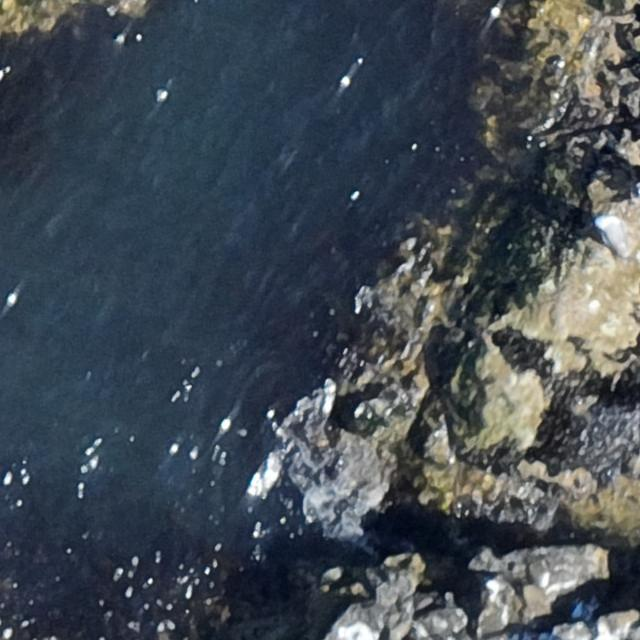umineko: (596, 215, 632, 257)
